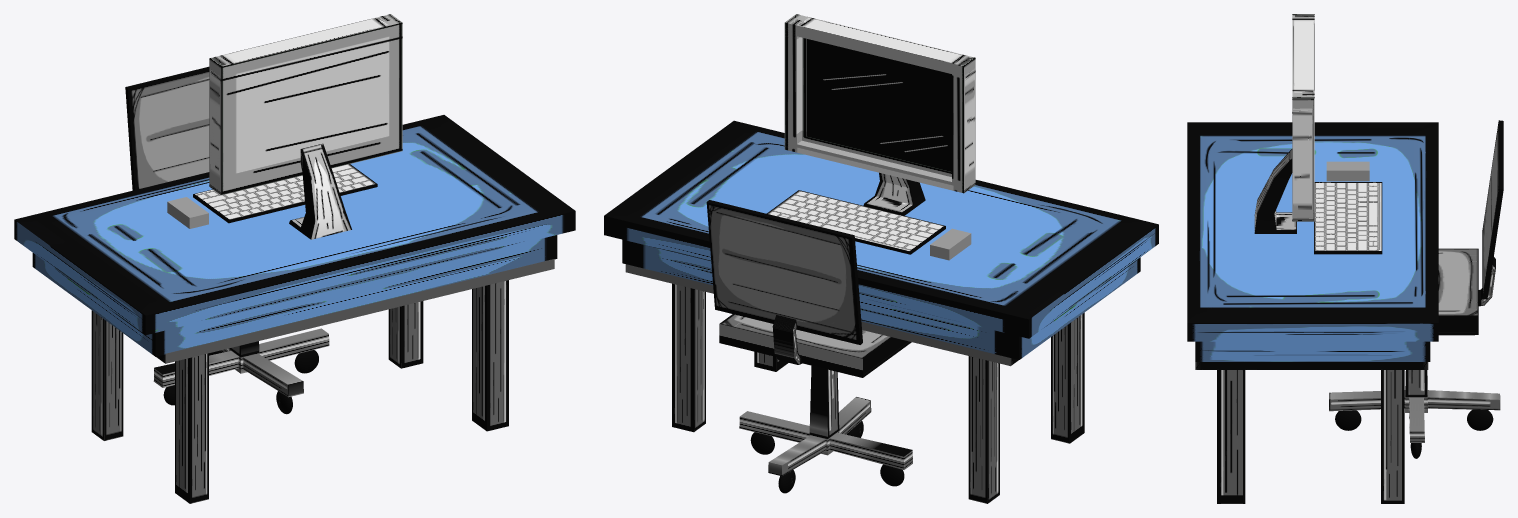
File: laboratorios.fbx
3 renders of one model, left to right at view 1: azimuth 30°, elevation 25°; view 2: azimuth 150°, elevation 25°; view 3: azimuth 270°, elevation 25°, orthographic. The views are drawn at different scales.
Visible parts, largest first — view 1: polySurface42, polySurface55, polySurface45, polySurface48, polySurface53, polySurface56, polySurface54; view 2: polySurface42, polySurface48, polySurface55, polySurface45, polySurface53, polySurface56, polySurface54; view 3: polySurface42, polySurface48, polySurface45, polySurface53, polySurface55, polySurface56, polySurface54.
Boxes of the visible parts, bbox=[...] form: polySurface42: bbox=[14, 115, 575, 356]; polySurface55: bbox=[209, 14, 402, 195]; polySurface45: bbox=[91, 259, 554, 503]; polySurface48: bbox=[125, 66, 329, 414]; polySurface53: bbox=[193, 164, 377, 223]; polySurface56: bbox=[289, 143, 351, 239]; polySurface54: bbox=[167, 197, 208, 228]; polySurface42: bbox=[604, 120, 1158, 359]; polySurface48: bbox=[706, 200, 912, 493]; polySurface55: bbox=[784, 14, 975, 193]; polySurface45: bbox=[625, 264, 1084, 503]; polySurface53: bbox=[766, 190, 945, 254]; polySurface56: bbox=[863, 172, 925, 215]; polySurface54: bbox=[930, 228, 971, 260]; polySurface42: bbox=[1187, 122, 1438, 361]; polySurface48: bbox=[1329, 120, 1503, 458]; polySurface45: bbox=[1195, 362, 1428, 503]; polySurface53: bbox=[1314, 182, 1382, 254]; polySurface55: bbox=[1292, 14, 1314, 221]; polySurface56: bbox=[1254, 149, 1296, 233]; polySurface54: bbox=[1326, 161, 1369, 181].
Size of the model in its own units: 73.63 by 64.01 by 49.08.
